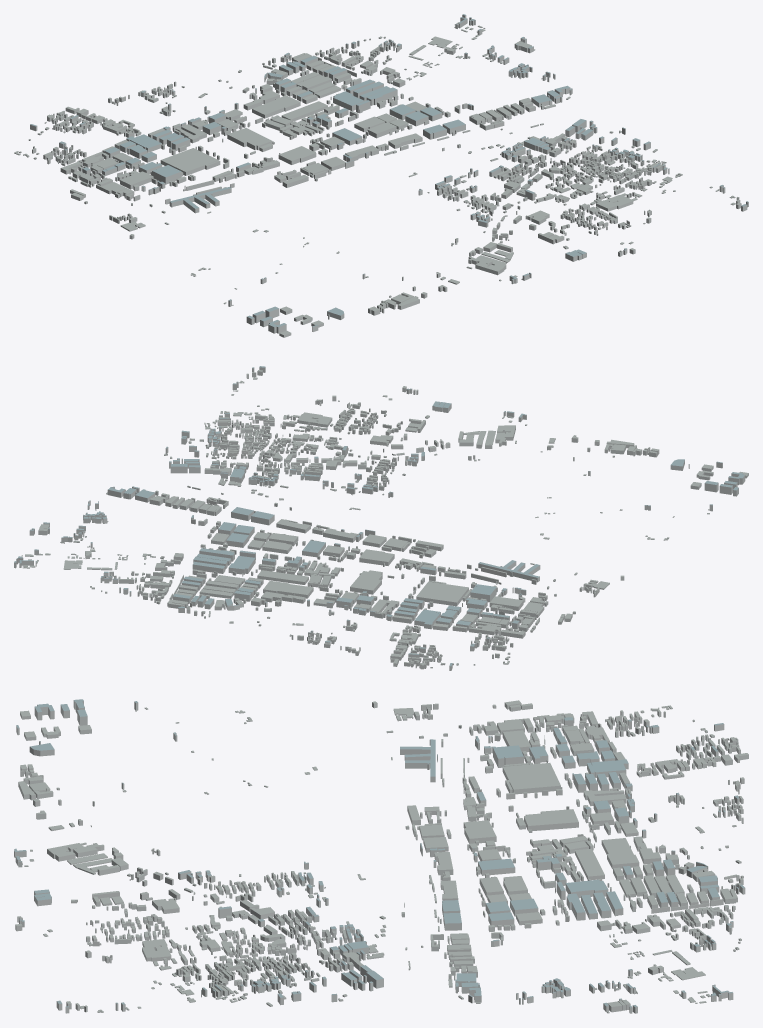
The picture shows the model from 3 angles, top to bottom: view 1: azimuth 30°, elevation 25°; view 2: azimuth 150°, elevation 25°; view 3: azimuth 270°, elevation 25°; orthographic projection. The views are drawn at different scales.
Visible parts, largest first — view 1: 上海全域建筑分块 · mapped building neighborhood; view 2: 上海全域建筑分块 · mapped building neighborhood; view 3: 上海全域建筑分块 · mapped building neighborhood.
Boxes of the visible parts, left/top/right/bottom form: 上海全域建筑分块 · mapped building neighborhood: left=14, top=14, right=748, bottom=337; 上海全域建筑分块 · mapped building neighborhood: left=14, top=366, right=748, bottom=670; 上海全域建筑分块 · mapped building neighborhood: left=14, top=699, right=748, bottom=1013.
Size of the model in its own units: 2113 by 34.04 by 2122.
